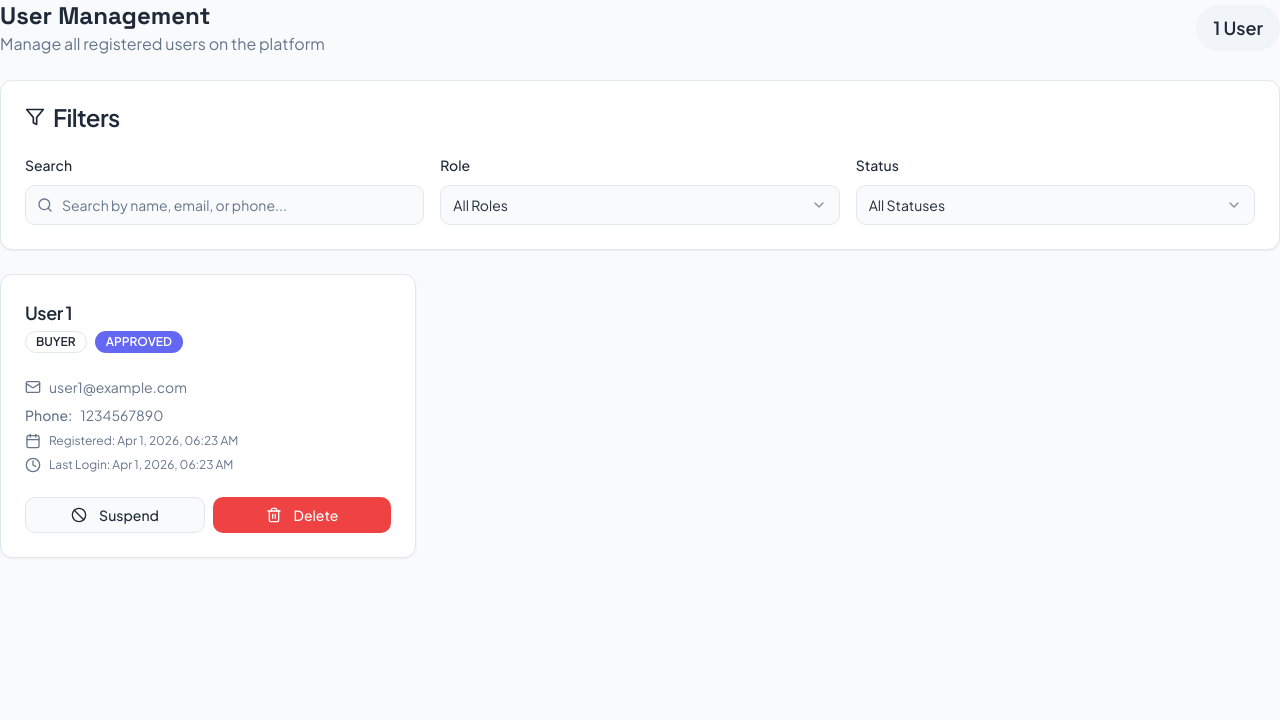
Test case: UserManagement › should open confirmation dialog when suspend button is clicked
Expected: the text "User 1" is shown, [25,301,72,324]
What coordinates should you click on to do the following:
click the button "Suspend"
I would click on:
 (115, 515)
Its box is [25,497,205,533].
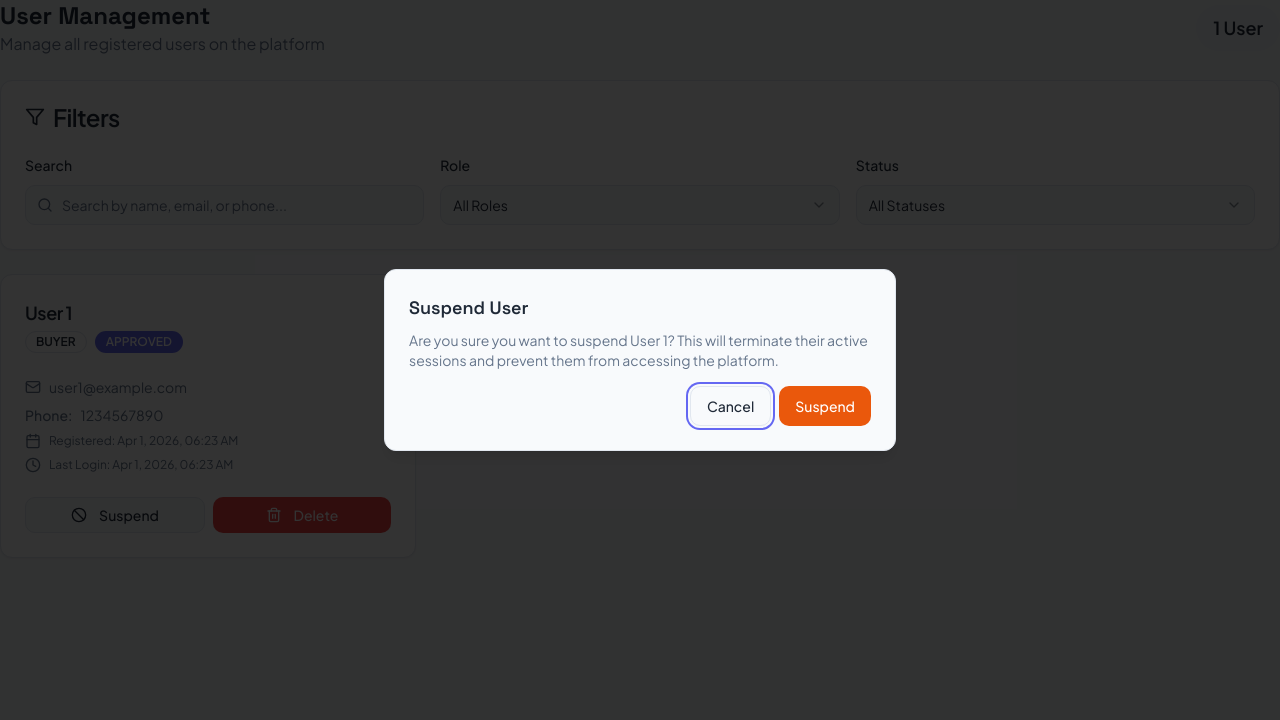
Now the text "Are you sure you want to suspend" is shown, box [409,331,630,349]
